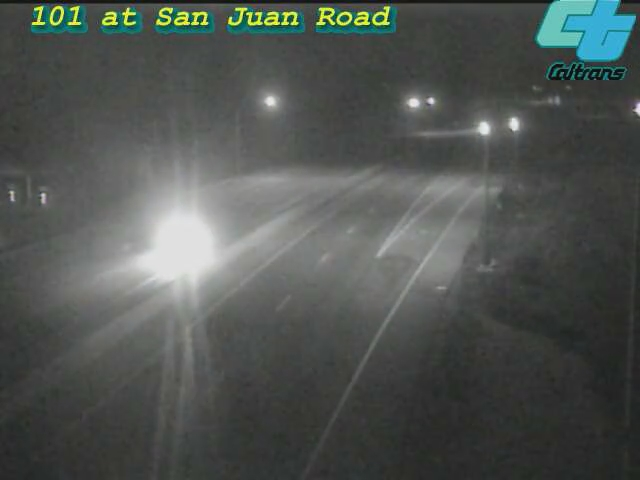vehicle: (139, 202, 219, 282), (459, 105, 509, 155), (489, 99, 539, 149), (612, 85, 640, 135)
